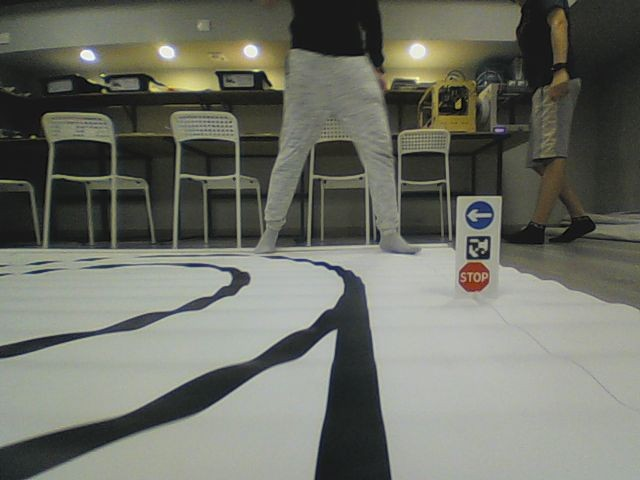Stop: (457, 260, 493, 293)
